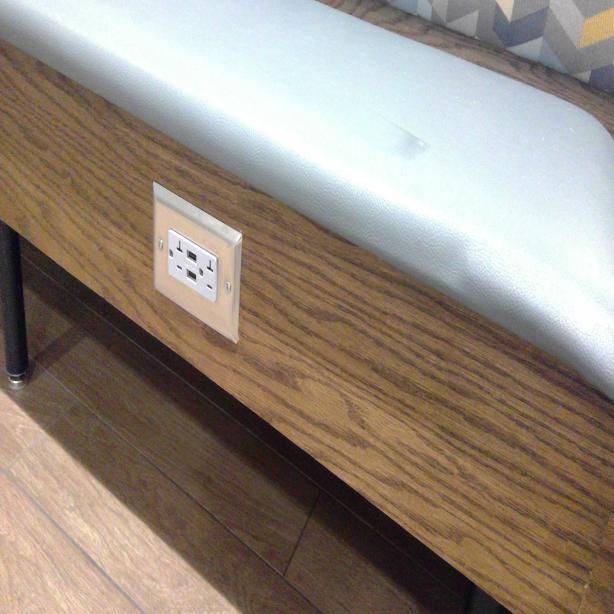typeb: (198, 247, 218, 300), (166, 227, 185, 279)
